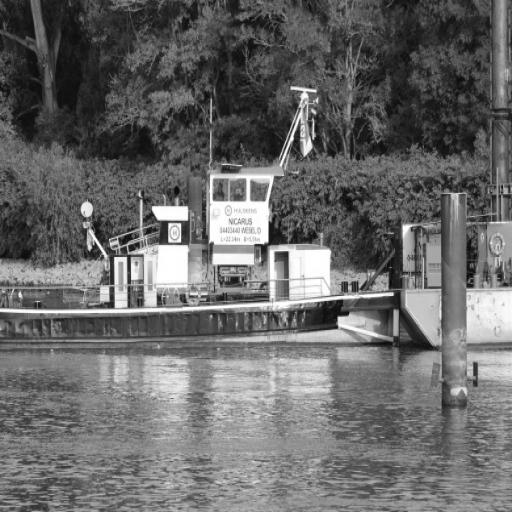tugboat: (1, 155, 409, 367)
